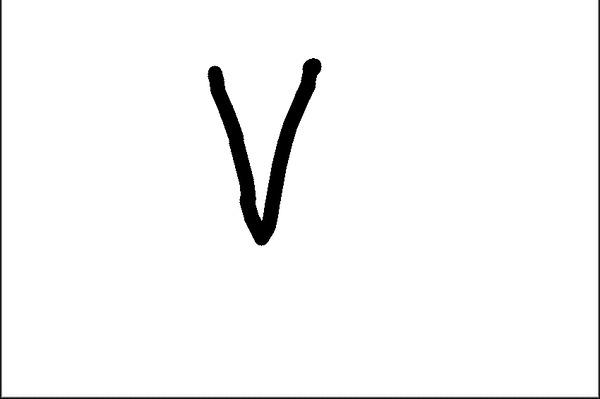V: (203, 51, 331, 250)
